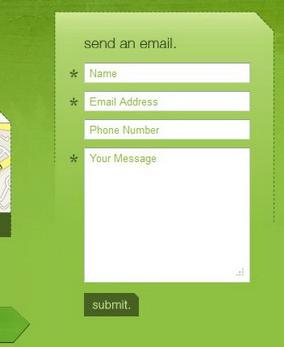field: (84, 147, 251, 283), (84, 91, 250, 112), (83, 119, 249, 140), (84, 63, 250, 82), (83, 293, 139, 317)
